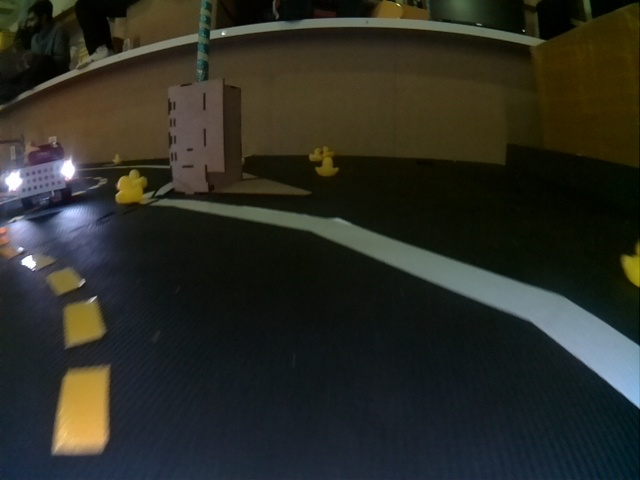Duckie: (621, 240, 639, 286), (117, 177, 143, 203), (316, 157, 338, 175), (128, 170, 147, 187), (324, 145, 335, 155), (310, 153, 321, 161), (113, 154, 120, 163)
Duckiebot: (5, 150, 77, 208)
